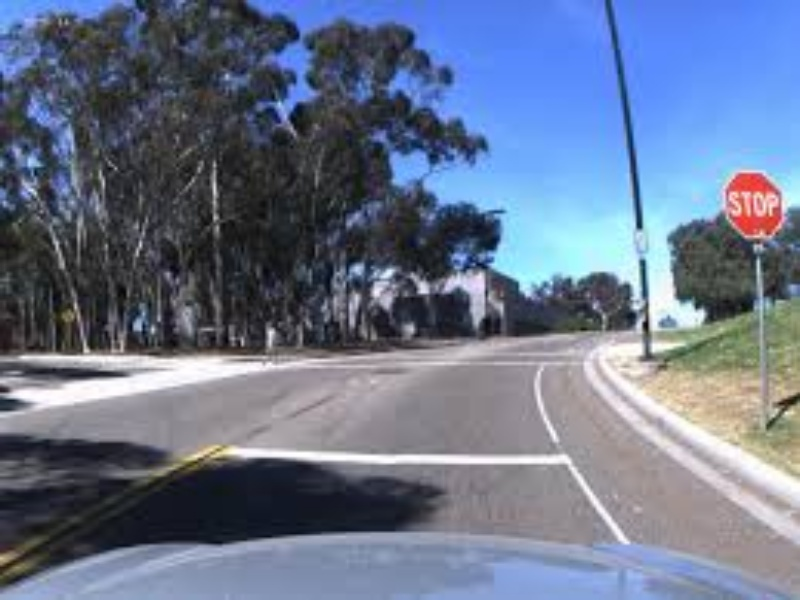stop sign: (721, 170, 787, 240)
